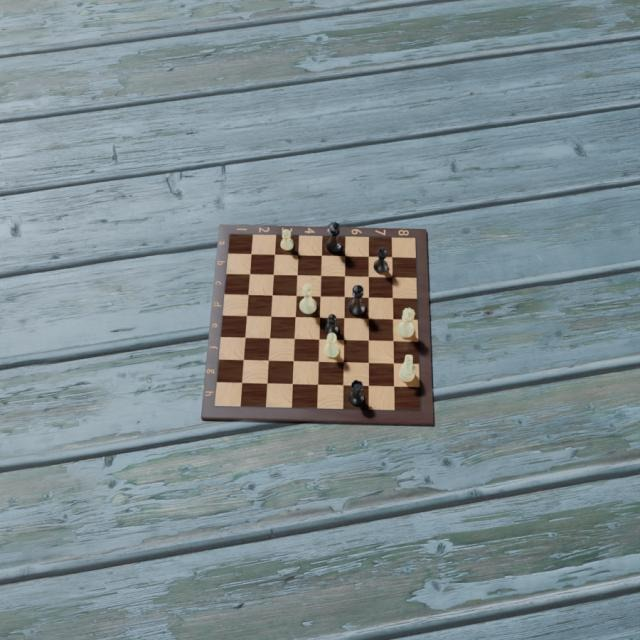black-bishop: (373, 246, 390, 274)
black-king: (348, 283, 368, 316)
black-pawn: (324, 314, 340, 334)
black-queen: (324, 221, 343, 254)
black-rook: (347, 380, 365, 408)
white-bishop: (322, 331, 340, 359)
white-king: (299, 282, 316, 315)
white-knight: (398, 352, 418, 383)
white-pawn: (278, 228, 294, 252)
white-queen: (397, 306, 415, 339)
